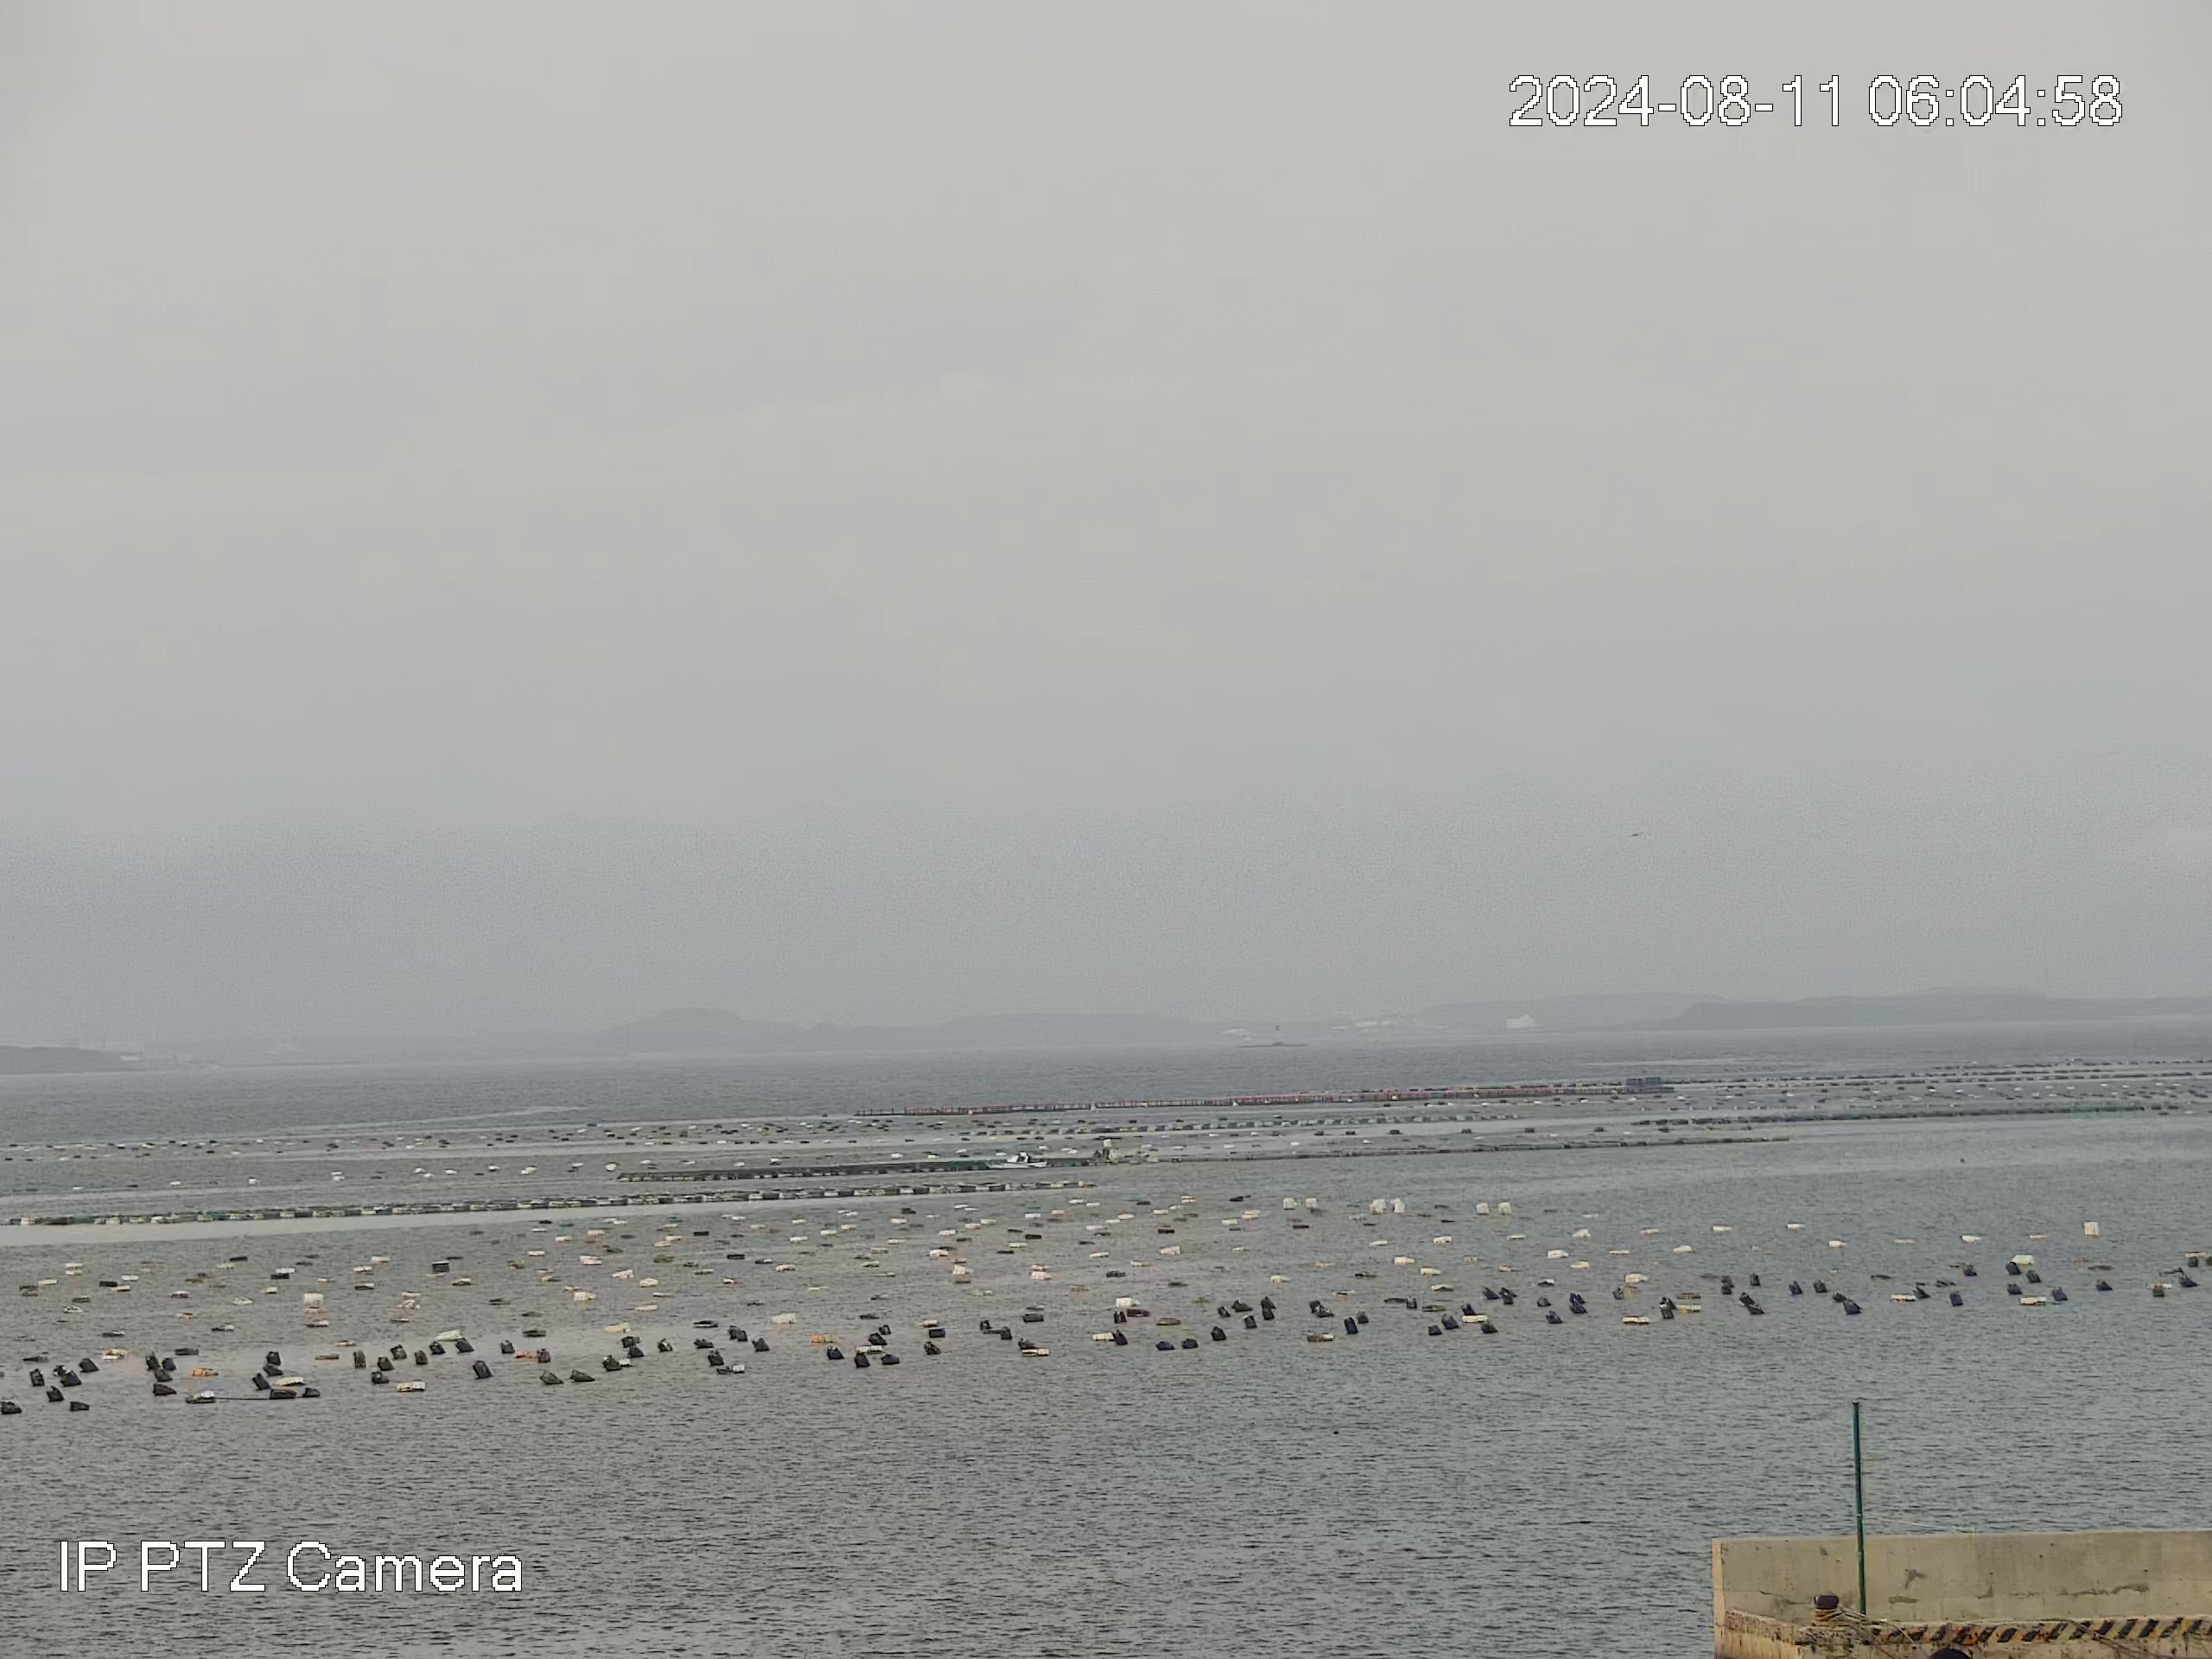boat: (979, 1148, 1049, 1171)
